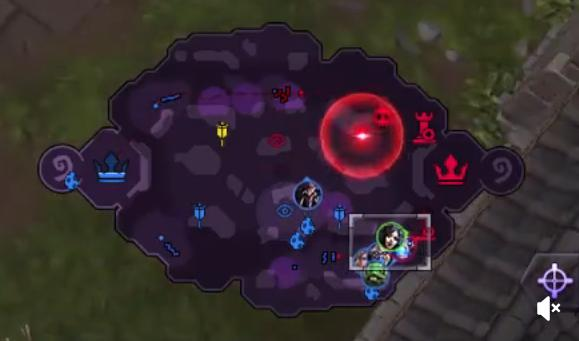blue nexus: (90, 148, 131, 191)
blue player: (350, 242, 393, 272), (375, 221, 407, 252), (293, 176, 322, 209), (360, 260, 388, 287)
red nexus: (432, 152, 468, 184)
red tower: (411, 109, 436, 144)
